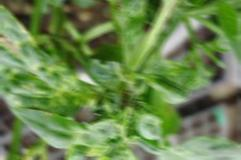Tomato leaf mosaic virus: (0, 0, 90, 120), (137, 55, 197, 104), (110, 0, 155, 44)
